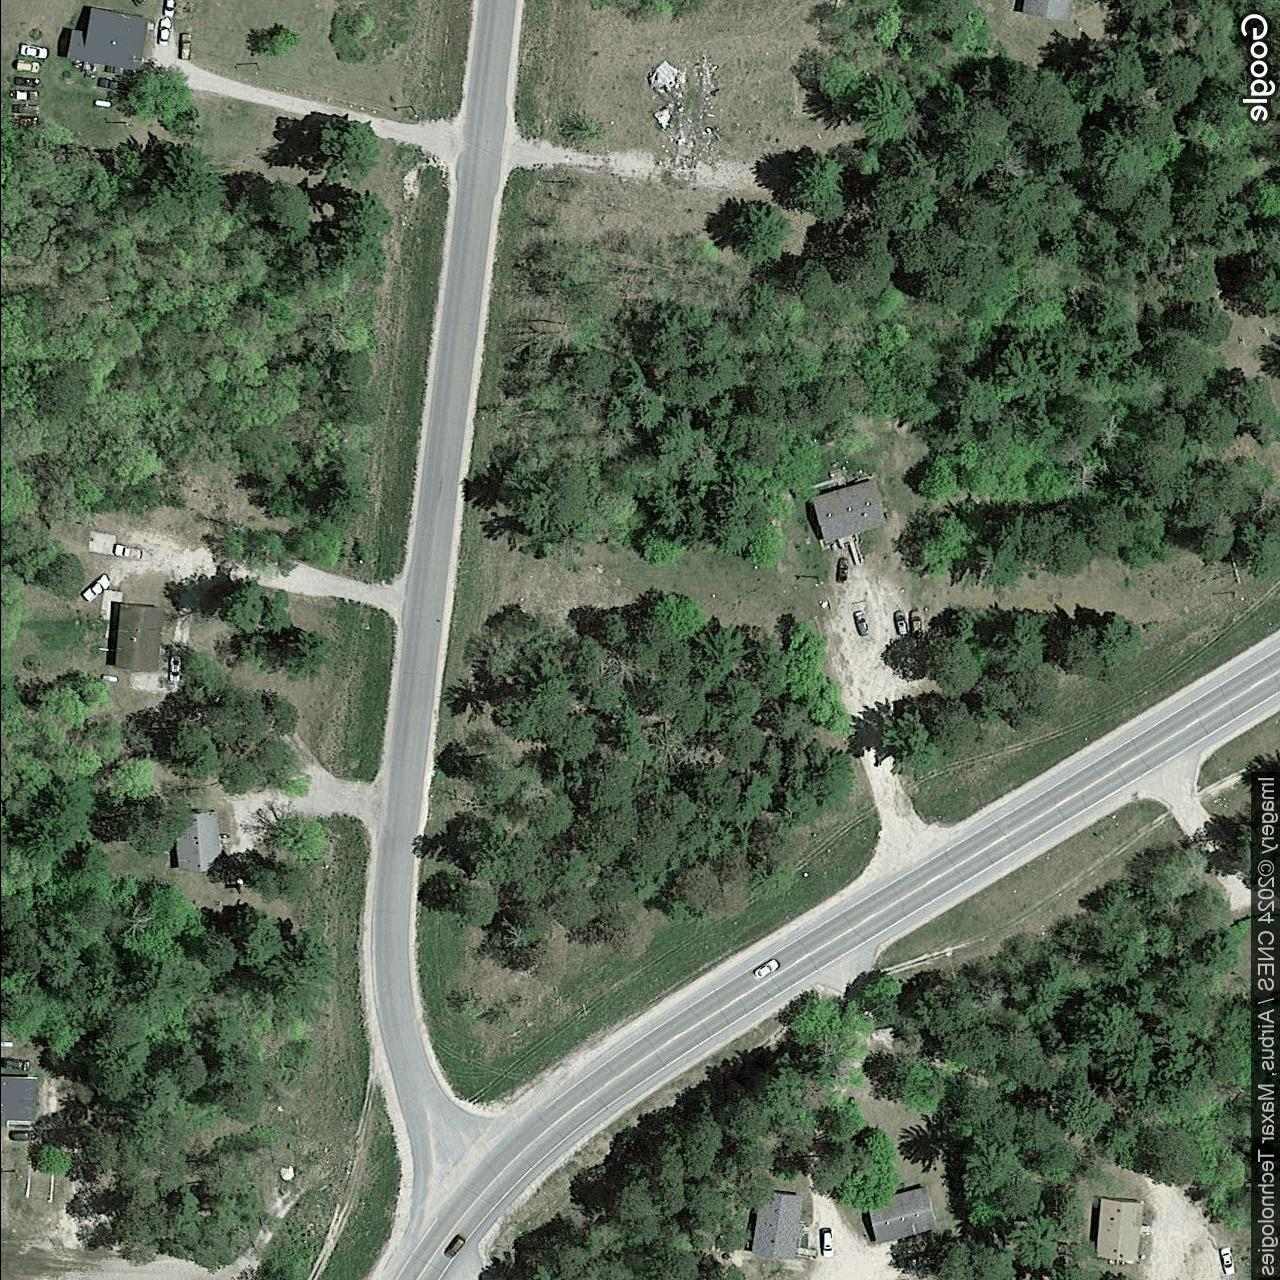House: (64, 6, 148, 73), (811, 479, 887, 545), (866, 1184, 937, 1246), (750, 1187, 804, 1261), (113, 602, 163, 673), (1094, 1196, 1144, 1264), (173, 809, 225, 873), (0, 1075, 38, 1128), (1020, 1, 1071, 21)
Propane: (91, 98, 111, 109), (98, 674, 117, 683), (0, 1041, 13, 1047)
